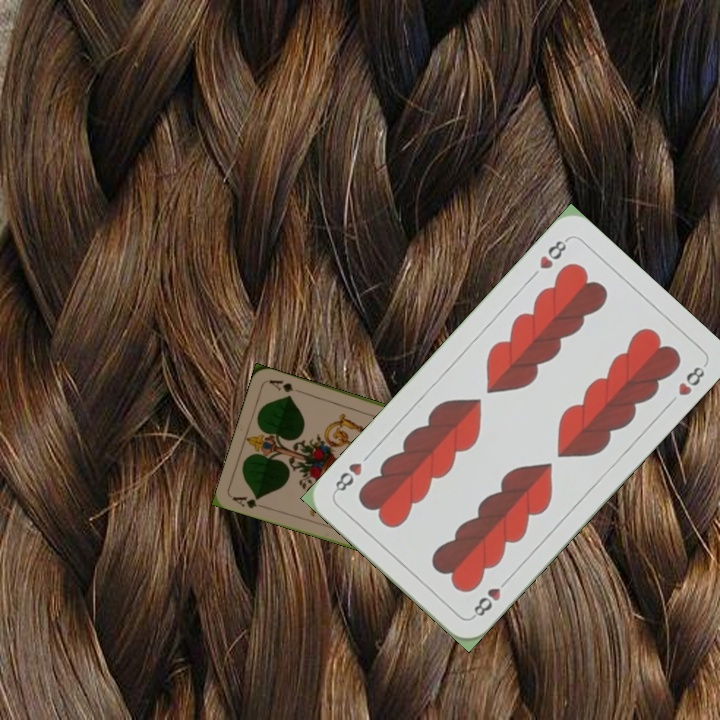GA: (229, 492, 269, 511)
H8: (468, 573, 512, 621), (535, 234, 571, 272)
